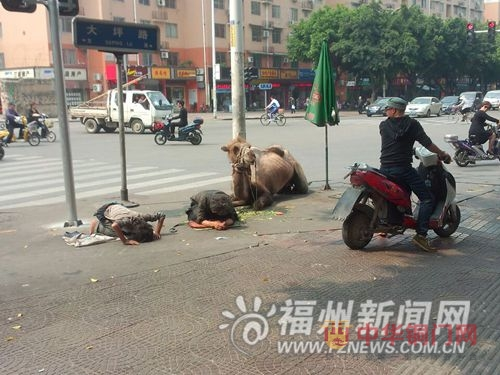10+: (1, 1, 500, 257)
down: (89, 199, 168, 249), (185, 189, 240, 232)
